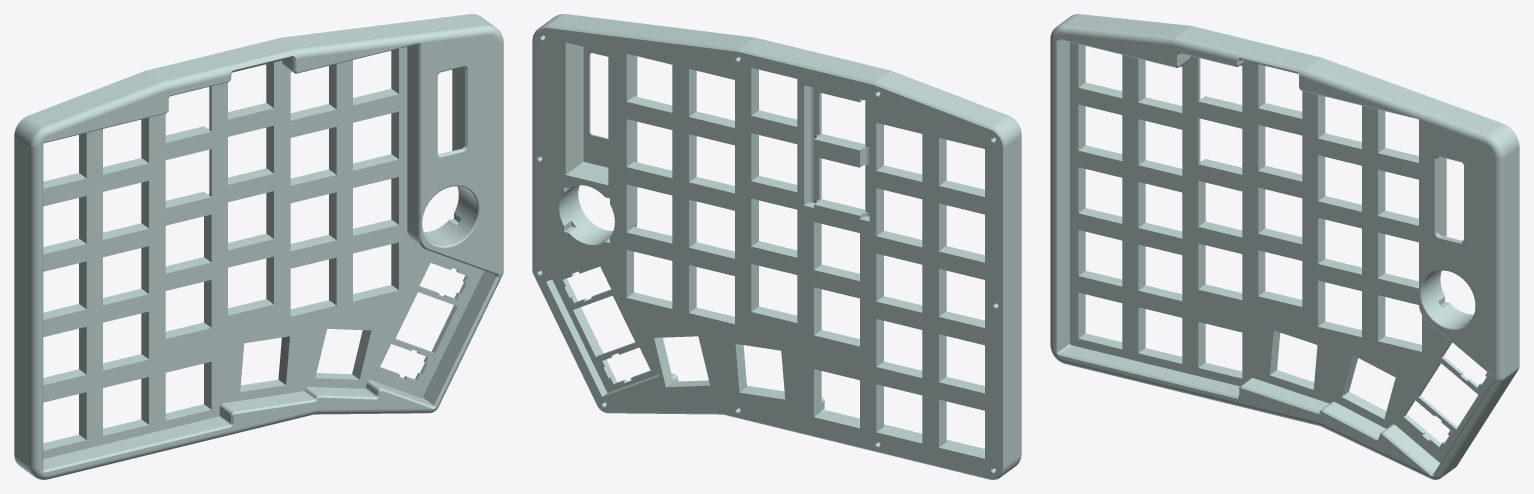
File: Takmak - Left Regular Top.glb
The picture shows the model from 3 angles, left to right: view 1: azimuth 30°, elevation 25°; view 2: azimuth 150°, elevation 25°; view 3: azimuth 330°, elevation 25°; orthographic projection. The views are drawn at different scales.
Parts seen in each view (by area): view 1: Left Regular Top; view 2: Left Regular Top; view 3: Left Regular Top.
Part boxes in pixels (x1,y1,x2,y2): Left Regular Top: (14, 14, 503, 479); Left Regular Top: (532, 14, 1021, 479); Left Regular Top: (1050, 14, 1519, 479).
Bounding box in the file's own units: 0.1442 × 0.1154 × 0.0105.
